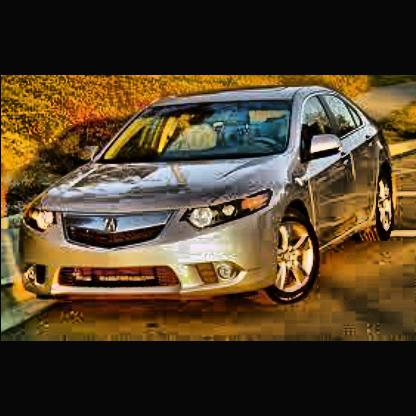Acura TSX Sedan 2012: (17, 87, 400, 312)
